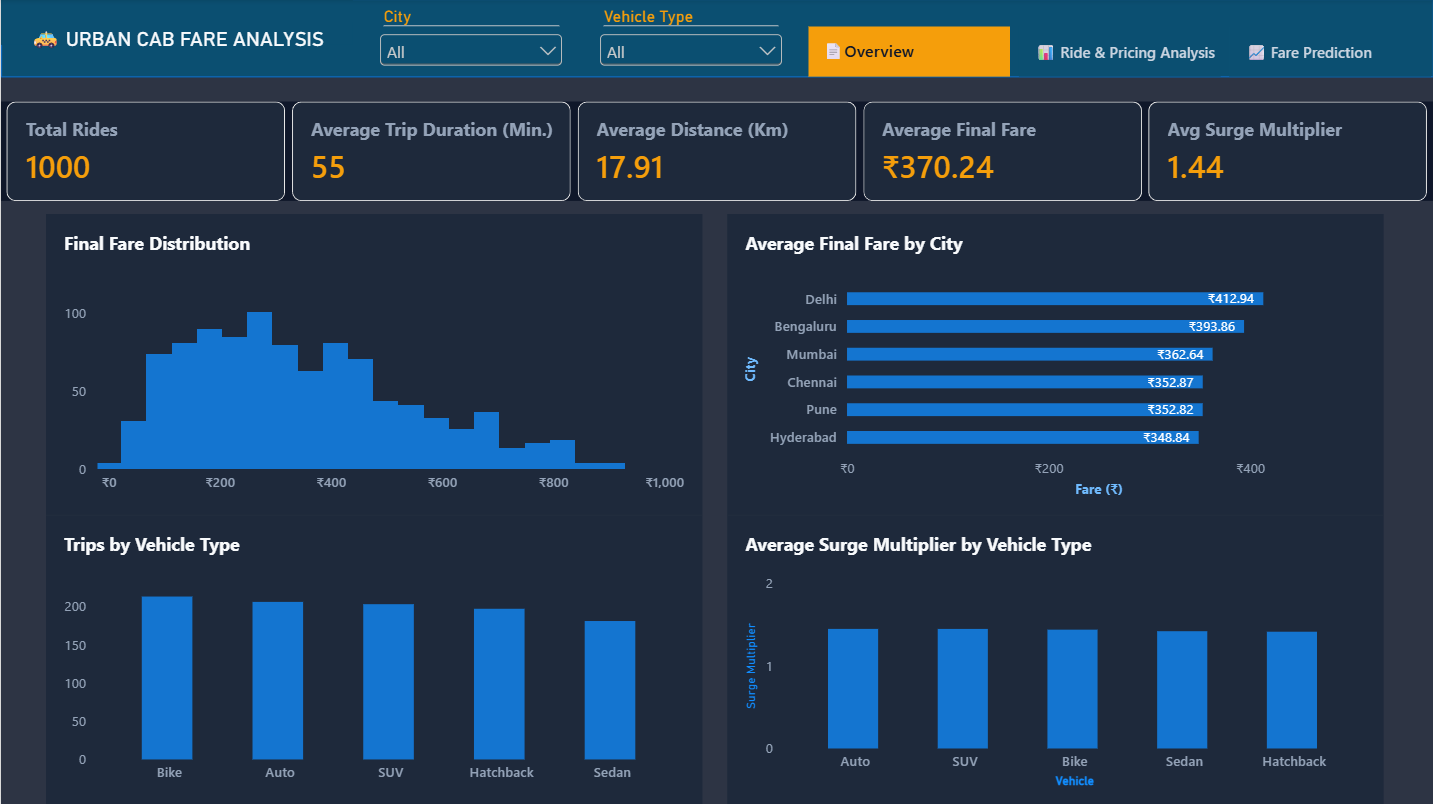

The page's visual inventory and layout, read from the dashboard file:
{"tool":"powerbi","page":{"name":"📄Overview","canvas":[1280,720],"ordinal":0},"visuals":[{"type":"shape","title":"Menu bar","box":[0,0,1280,70],"z":0},{"type":"pageNavigator","title":"Menu Button","box":[721.3,24.6,558.3,45.8],"z":1000},{"type":"textbox","title":"🚕 URBAN CAB FARE ANALYSIS","box":[0,0,314.3,70],"z":2000},{"type":"cardVisual","fields":{"Data":["UrbanCabFare.Total_Rides","Avg(UrbanCabFare.Trip_Duration)","Avg(UrbanCabFare.Distance_km)","Avg(UrbanCabFare.Final_Fare)","Avg(UrbanCabFare.Surge_Multiplier)"]},"box":[0,91.2,1280.2,89.7],"z":3000},{"type":"clusteredBarChart","title":"Average Final Fare by City","fields":{"Category":["UrbanCabFare.City"],"Y":["Avg(UrbanCabFare.Final_Fare)"]},"box":[648.8,192.1,586.2,268.8],"z":4000},{"type":"slicer","fields":{"Values":["UrbanCabFare.City"]},"box":[333.8,6.2,172.5,57.5],"z":5000},{"type":"columnChart","title":"Trips by Vehicle Type","fields":{"Category":["UrbanCabFare.Type_of_vehicle"],"Y":["UrbanCabFare.distinct_vehicle_count"]},"box":[40.2,461.2,586.2,258.8],"z":6000},{"type":"columnChart","title":"Final Fare Distribution","fields":{"Category":["UrbanCabFare.Final_Fare (bins)"],"Y":["CountNonNull(UrbanCabFare.User_ID)"]},"box":[40.2,192.1,586.2,268.8],"z":7000},{"type":"columnChart","title":"Average Surge Multiplier by Vehicle Type","fields":{"Category":["UrbanCabFare.Type_of_vehicle"],"Y":["Avg(UrbanCabFare.Surge_Multiplier)"]},"box":[648.8,461.2,586.2,258.8],"z":8000},{"type":"slicer","fields":{"Values":["UrbanCabFare.Type_of_vehicle"]},"box":[530,6.2,172,57],"z":9000}]}

Visuals, with their boxes in screenshot pixels (x1, y1, x2, y2), scaled from the page's 1280x720 canvas onto the 1433x804 screenshot:
"Menu bar" shape: 0/0/1432/78
"Menu Button" pageNavigator: 808/27/1432/79
"🚕 URBAN CAB FARE ANALYSIS" textbox: 0/0/352/78
cardVisual - UrbanCabFare.Total_Rides x Avg(UrbanCabFare.Trip_Duration): 0/102/1432/202
"Average Final Fare by City" clusteredBarChart: 726/215/1383/515
slicer - UrbanCabFare.City: 374/7/567/71
"Trips by Vehicle Type" columnChart: 45/515/701/803
"Final Fare Distribution" columnChart: 45/215/701/515
"Average Surge Multiplier by Vehicle Type" columnChart: 726/515/1383/803
slicer - UrbanCabFare.Type_of_vehicle: 593/7/786/71
